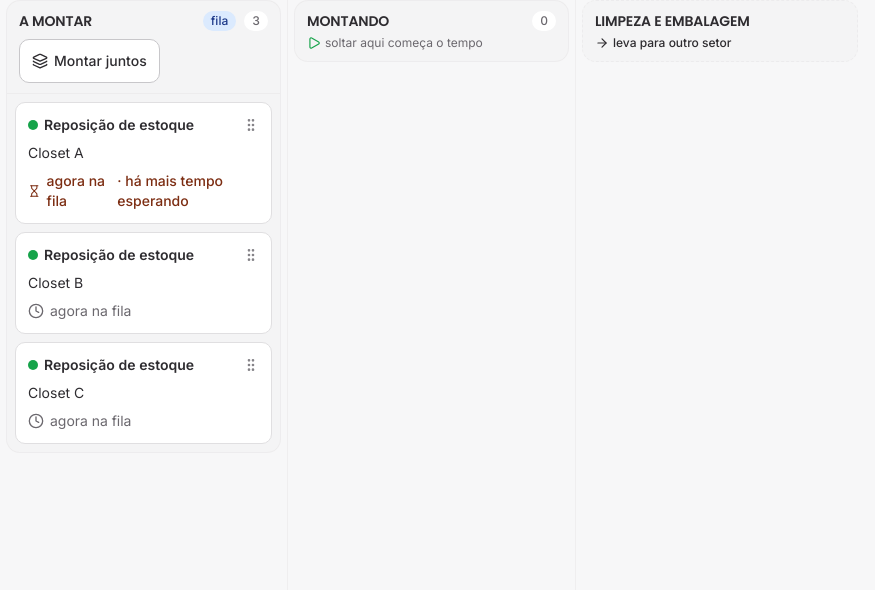
Test: QuadroKanban — Montar juntos (SESSAO-42) › marca 2 cards da fila e manda os dois
This screenshot has width=875, height=590.
Step 1. Click the button "Montar juntos" → click(89, 61), box [19,39,160,83]
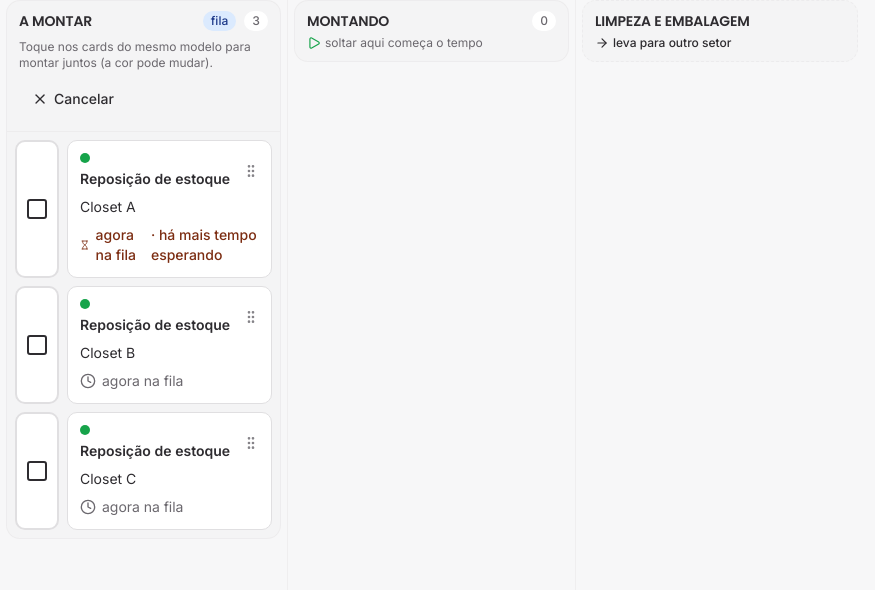
Result: the number of checkboxes is 3
// com 1 marcado ainda não dá para confirmar
Step 2. Click the checkbox named "Marcar para montar junto" → click(144, 209), box [15,140,272,278]
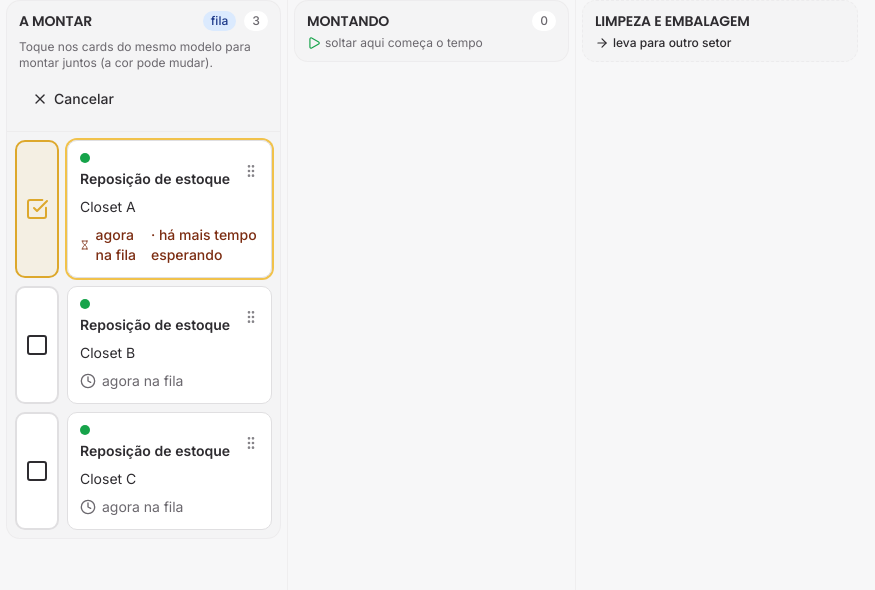
Step 3. Click the checkbox labelled "Reposição de estoque Closet C agora na fila" → click(144, 471), box [15,412,272,530]
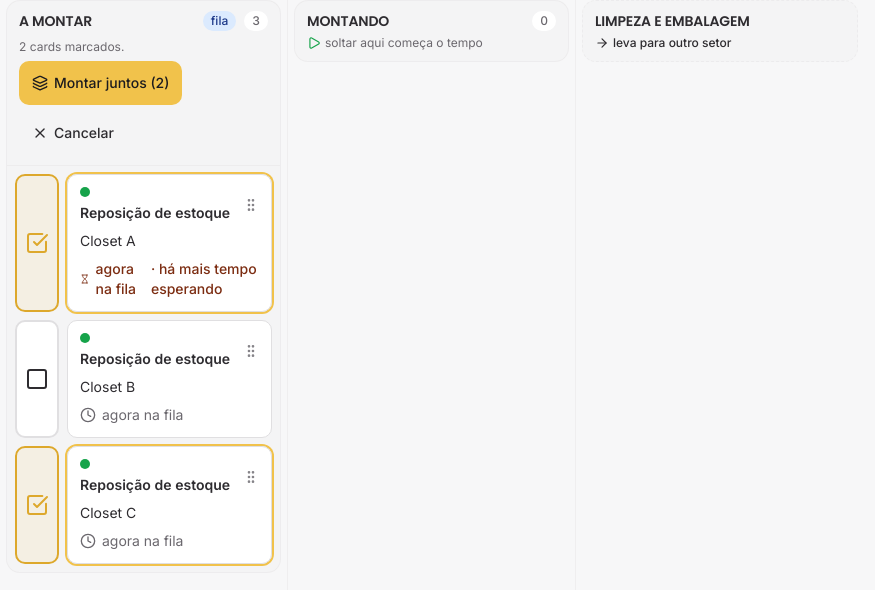
Result: the checkbox labelled "Reposição de estoque Closet C agora na fila" is checked at [15,446,272,564]
Step 4. Click the button "Montar juntos (2)" → click(101, 83), box [19,61,182,105]
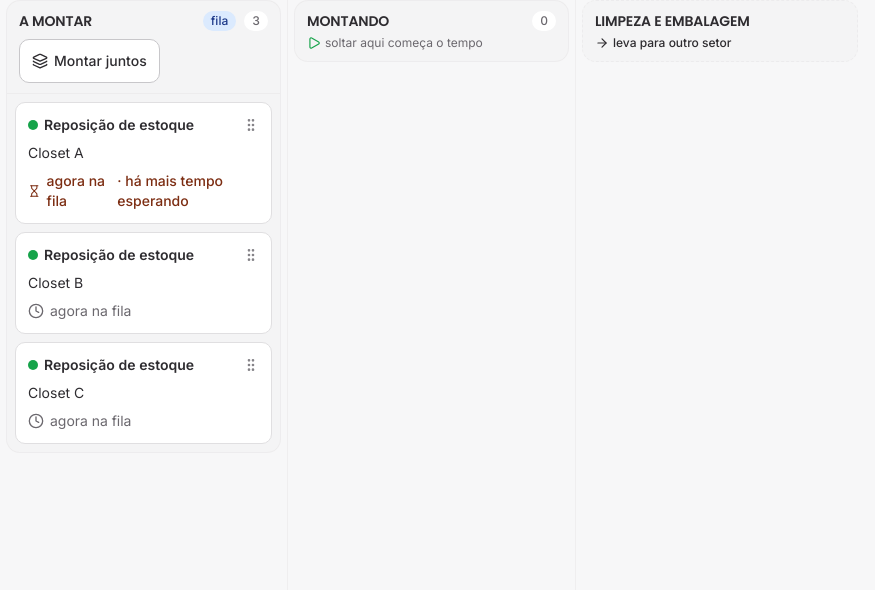
Result: no checkboxes are shown
